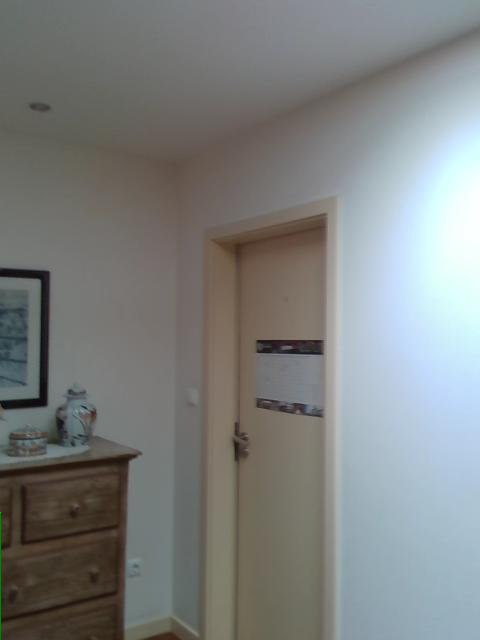door: (232, 221, 325, 639)
